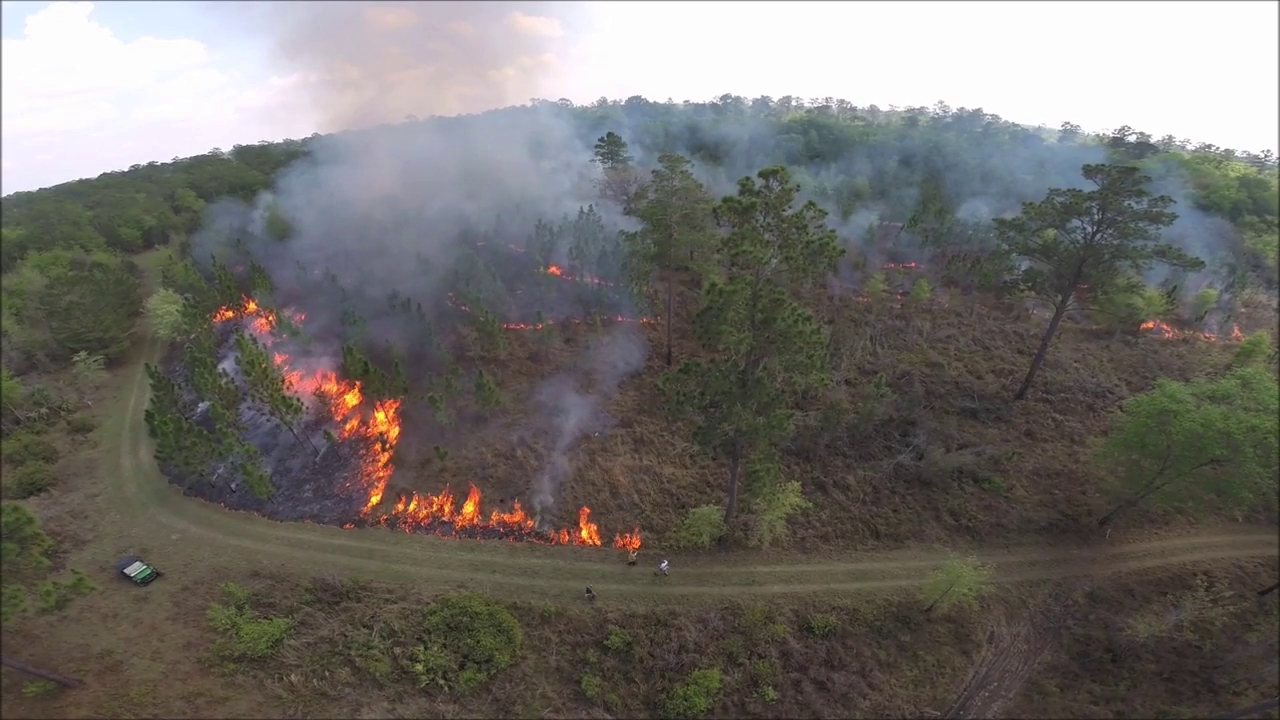forest_fire: (271, 352, 600, 544), (210, 295, 277, 346), (1139, 319, 1241, 340), (612, 528, 639, 547), (503, 319, 554, 329), (544, 265, 570, 278), (287, 312, 303, 321), (343, 523, 353, 526), (536, 311, 541, 316), (617, 317, 625, 319)
